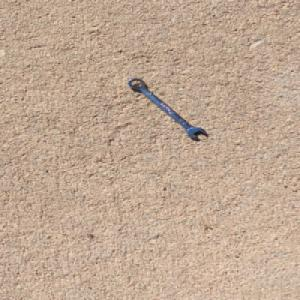Wrench: (125, 76, 210, 140)
